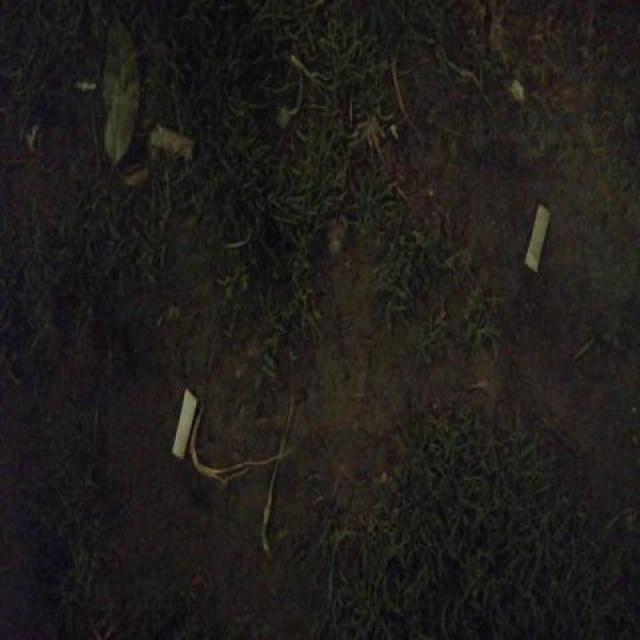non-organic waste: (520, 200, 556, 275), (145, 119, 200, 166), (168, 382, 200, 462)
